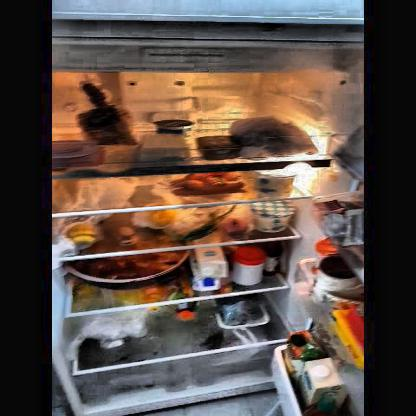broccoli: (214, 298, 266, 326)
butter: (198, 136, 242, 160)
carrot: (171, 172, 250, 196)
cheese: (135, 136, 192, 162)
lemon: (65, 223, 101, 247), (146, 210, 180, 227)
milk: (189, 249, 229, 289)
salami: (52, 139, 107, 170)
yoghurt: (249, 203, 296, 232), (254, 170, 296, 197), (152, 118, 198, 136)
